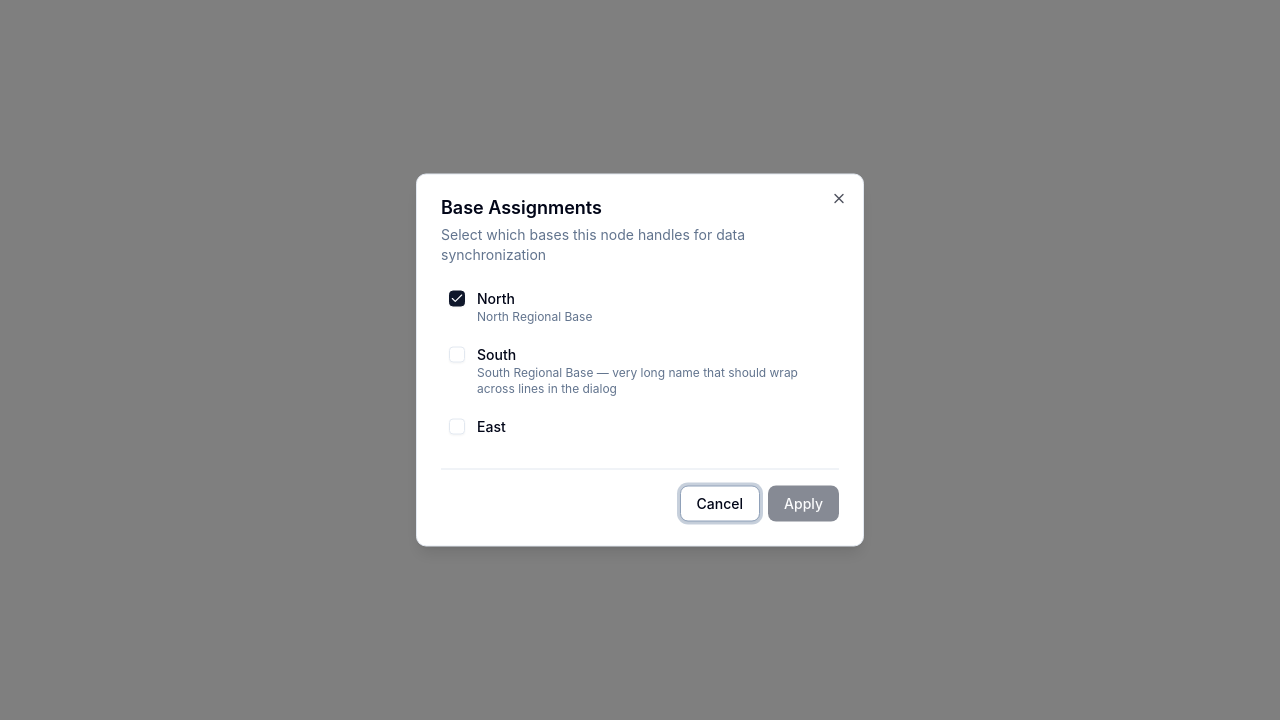
Test: baseAssignmentDialog › apply button becomes enabled after a pending change
expect the text "South" is shown: met, box [477,346,516,362]
Click the 2nd checkbox named "south".
click(457, 354)  # box [449,346,465,362]
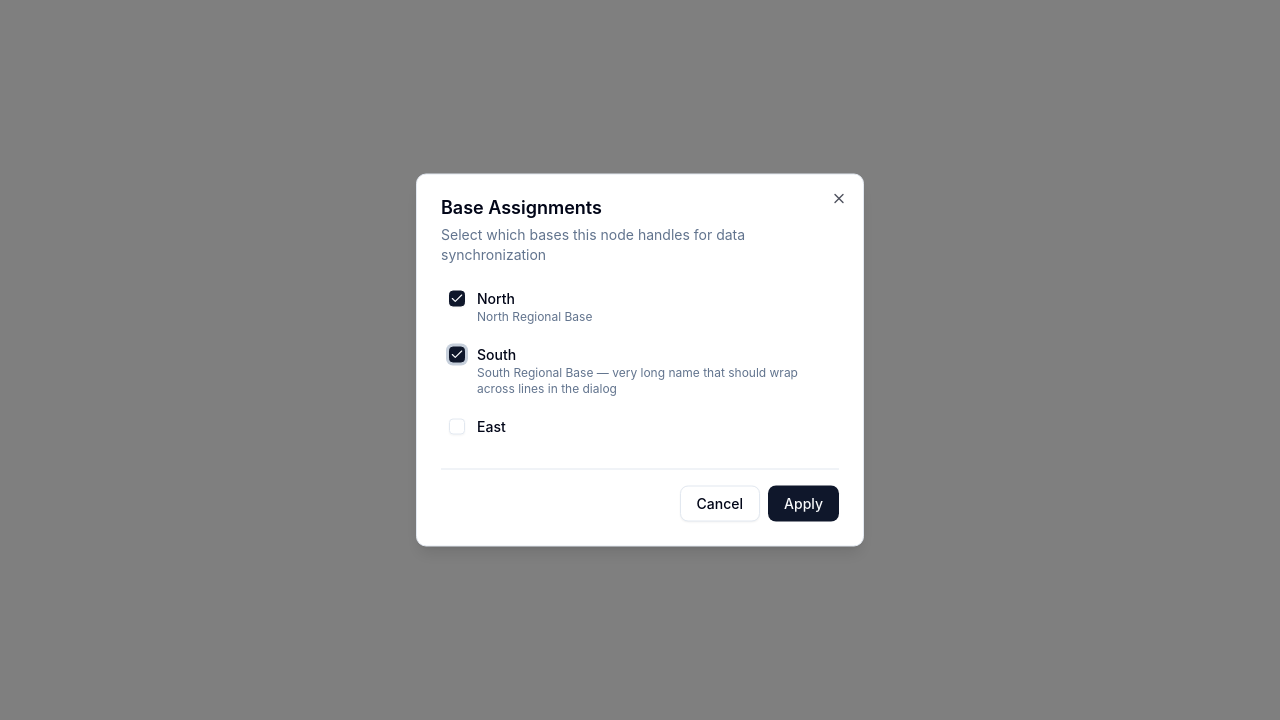
expect the button "Apply" is enabled: met, box [768,486,839,522]
